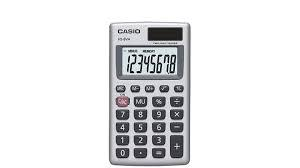Calculator: (97, 18, 202, 165)
